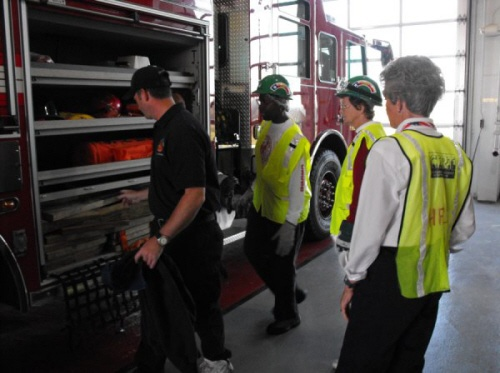helmet: (335, 74, 382, 106), (251, 74, 295, 100)
person with full safety: (353, 55, 470, 373), (248, 74, 314, 336), (334, 74, 380, 249)
person without safety: (130, 64, 232, 373)
safety vest: (378, 131, 466, 297), (251, 120, 312, 226), (331, 124, 381, 245)
